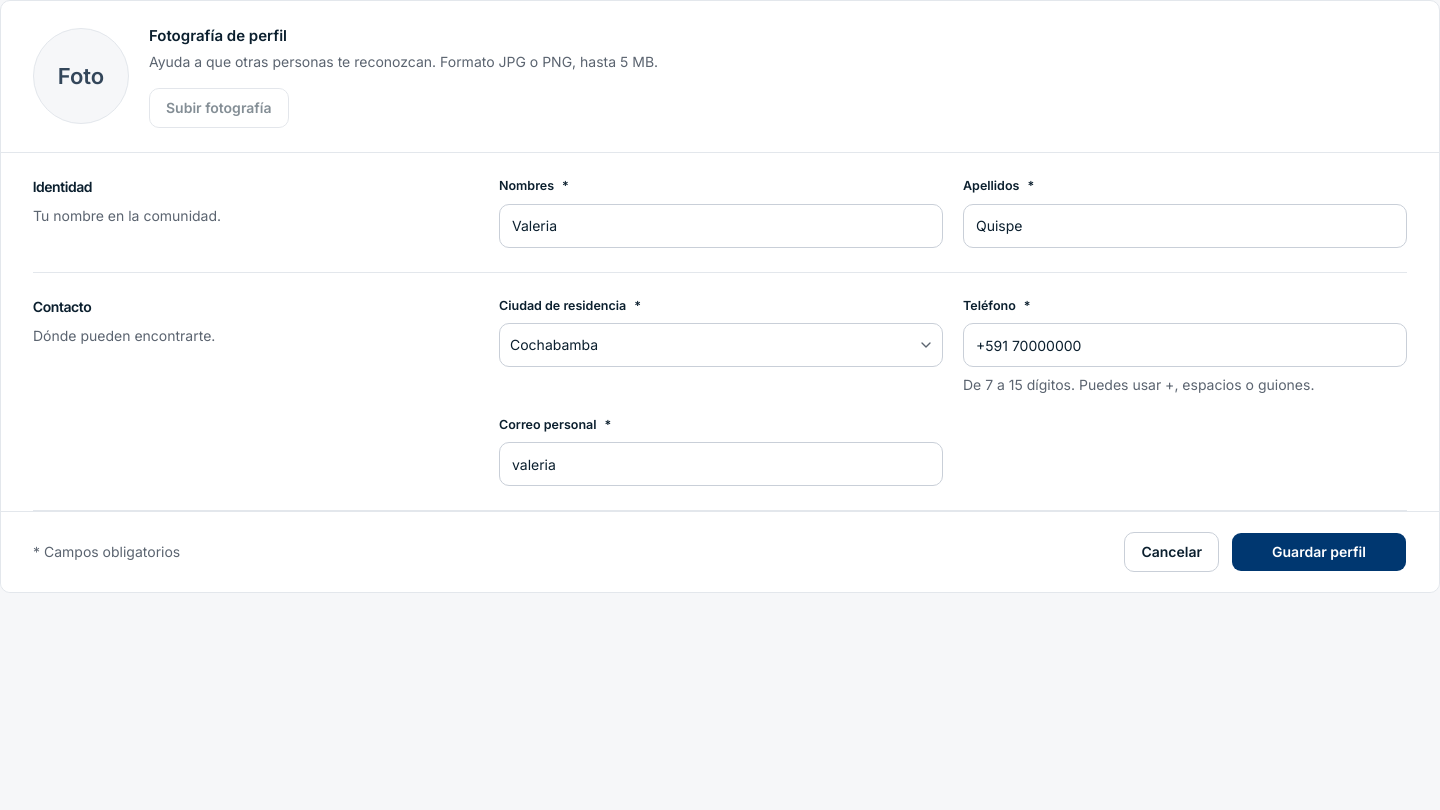
Test case: PersonalInfoForm › clears the error of a field when it changes
Click the button "Guardar perfil": (1319, 552) 1231,532 -> 1407,572
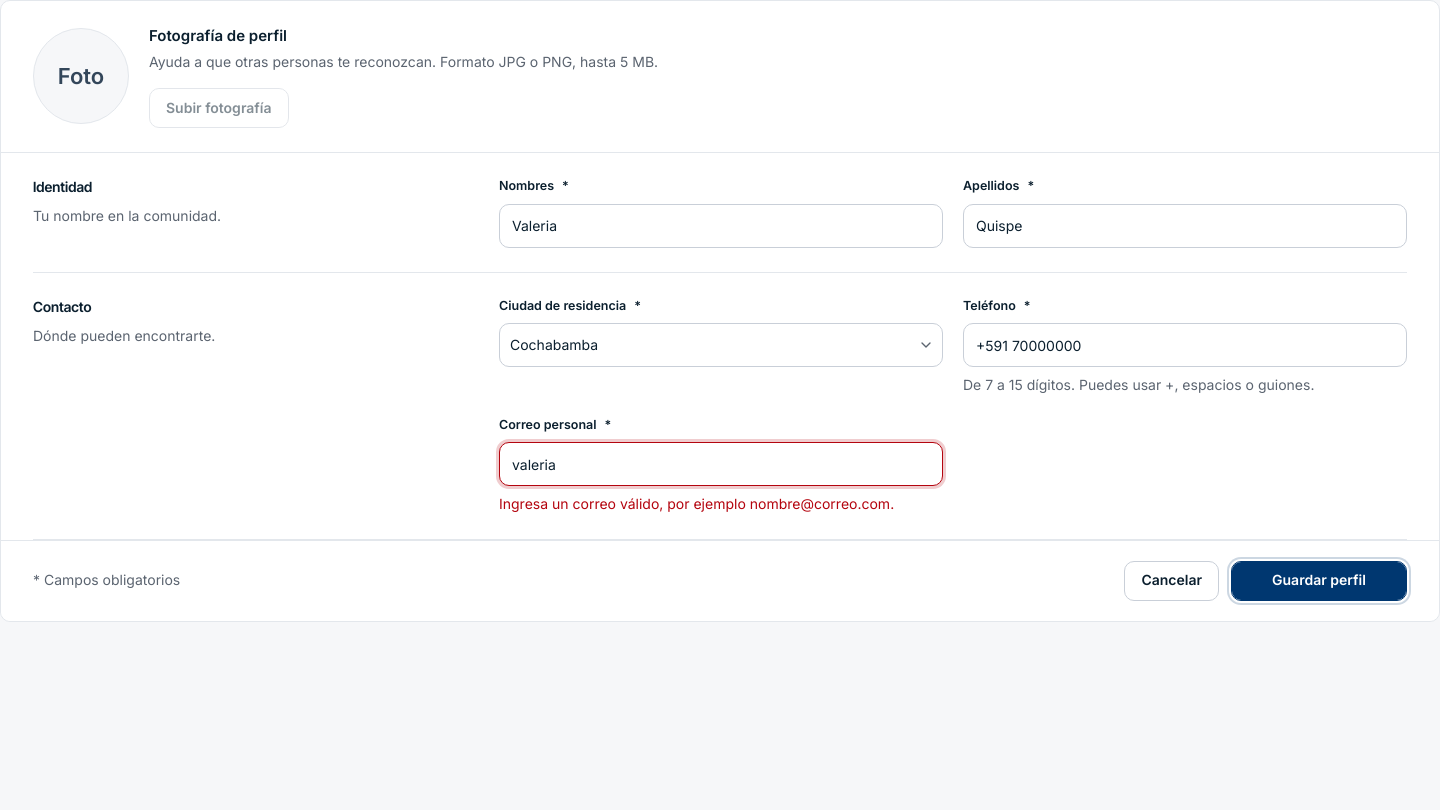
In the field labelled "Correo personal *": (721, 464) 499,442 -> 943,486, type "@correo.com"
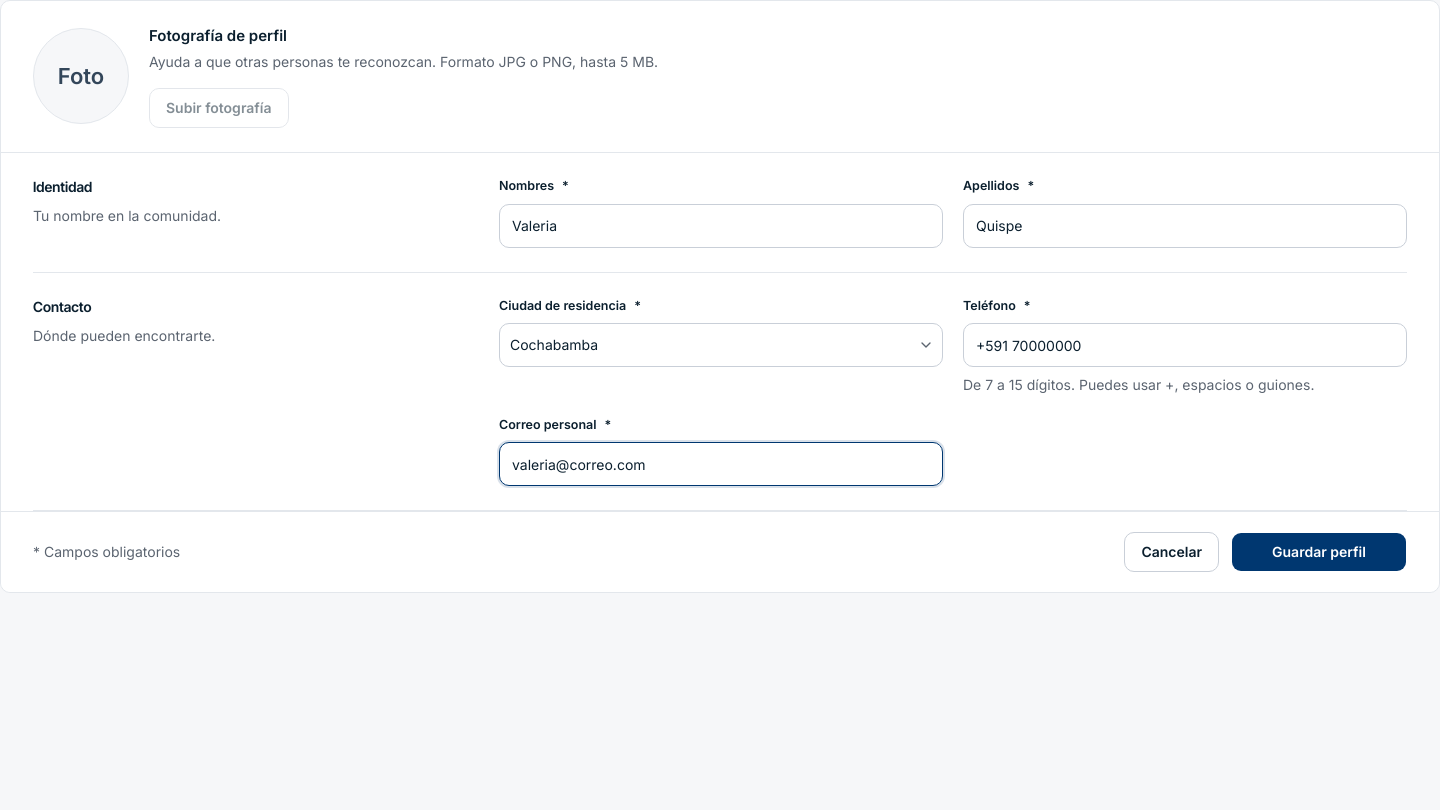
Expected: the text "Ingresa un correo válido, por ejemplo nombre@correo.com." is gone
